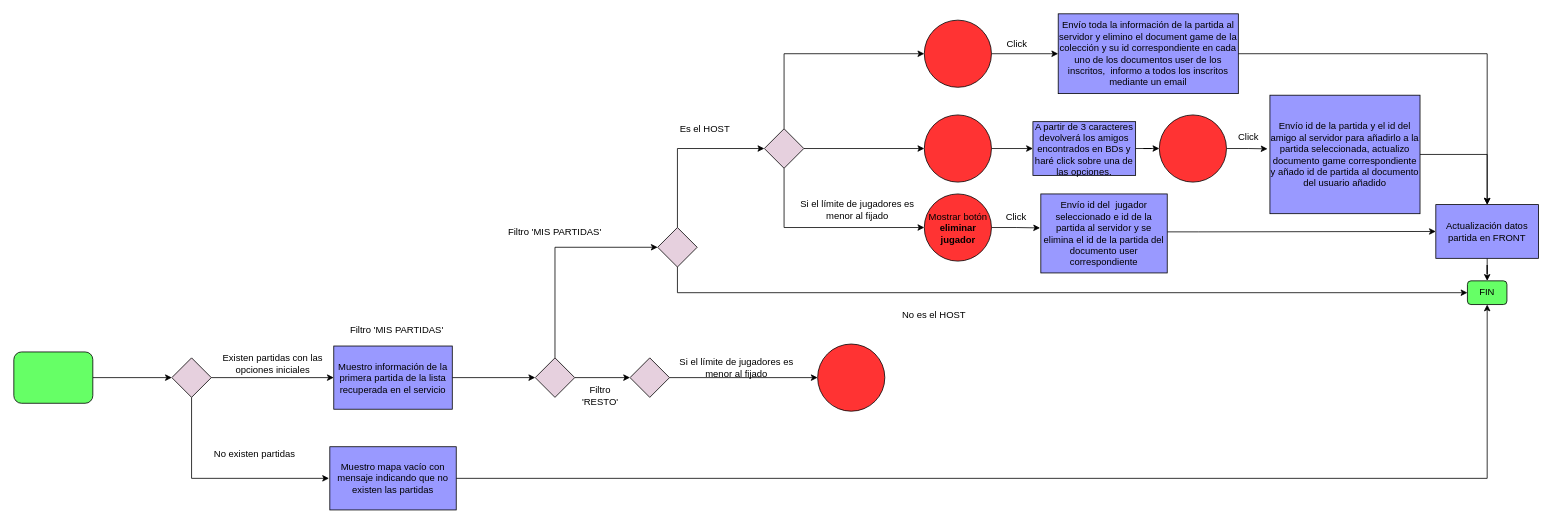
The diagram is 1552 pixels wide and 524 high, and some of its shapes have lost their labels. Here are the shapes that lost their labels. From the top down, the centre of each, then its label:
At [957,53]: "Mostrar botón ELIMINAR PARTIDA".
At [957,148]: "Mostrar input AÑADIR AMIGO a partida".
At [1192,148]: "Desbloqueo botón AÑADIR".
At [53,377]: "Carga inicial home".
At [851,377]: "Muestro botón inscribirse en la partida".
